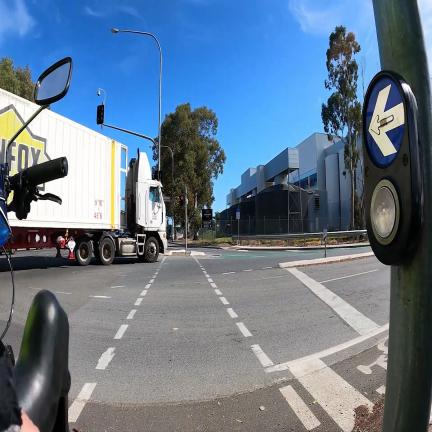Bike_Lane: (321, 330, 388, 400)
Green_Bike_Lane: (209, 251, 292, 258)
